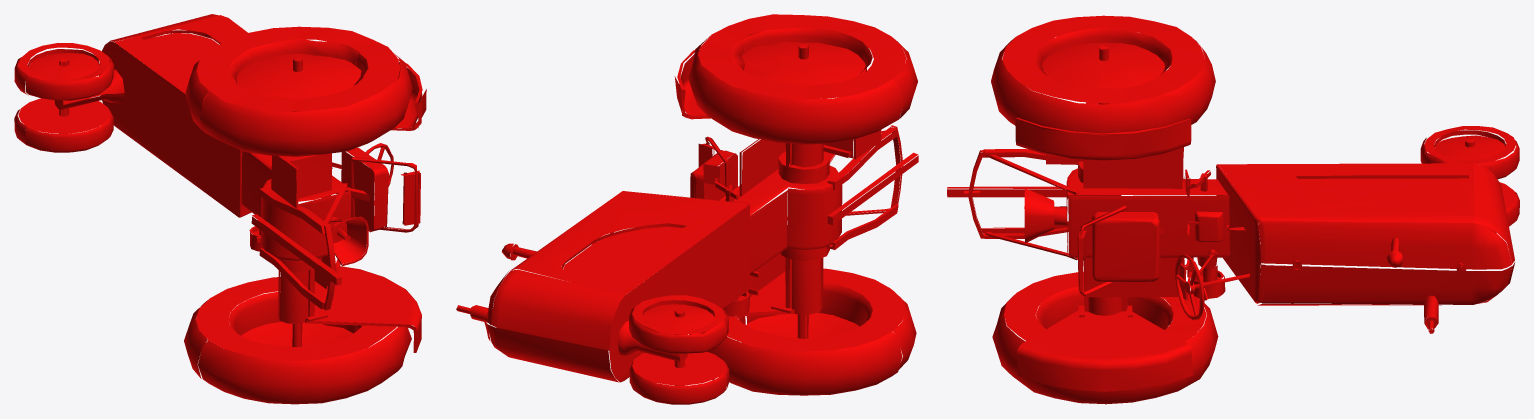
3 views of the same model, side by side, from view 1: azimuth 30°, elevation 25°; view 2: azimuth 150°, elevation 25°; view 3: azimuth 270°, elevation 25° (orthographic). The views are drawn at different scales.
Visible parts, largest first — view 1: Renderer Node; view 2: Renderer Node; view 3: Renderer Node.
Part boxes in pixels (<box>): Renderer Node: <box>14,14,426,404</box>; Renderer Node: <box>456,14,918,404</box>; Renderer Node: <box>947,15,1519,404</box>.
Size of the model in its own units: 1.15 by 1.23 by 1.97.
1 material, 1 textured.
